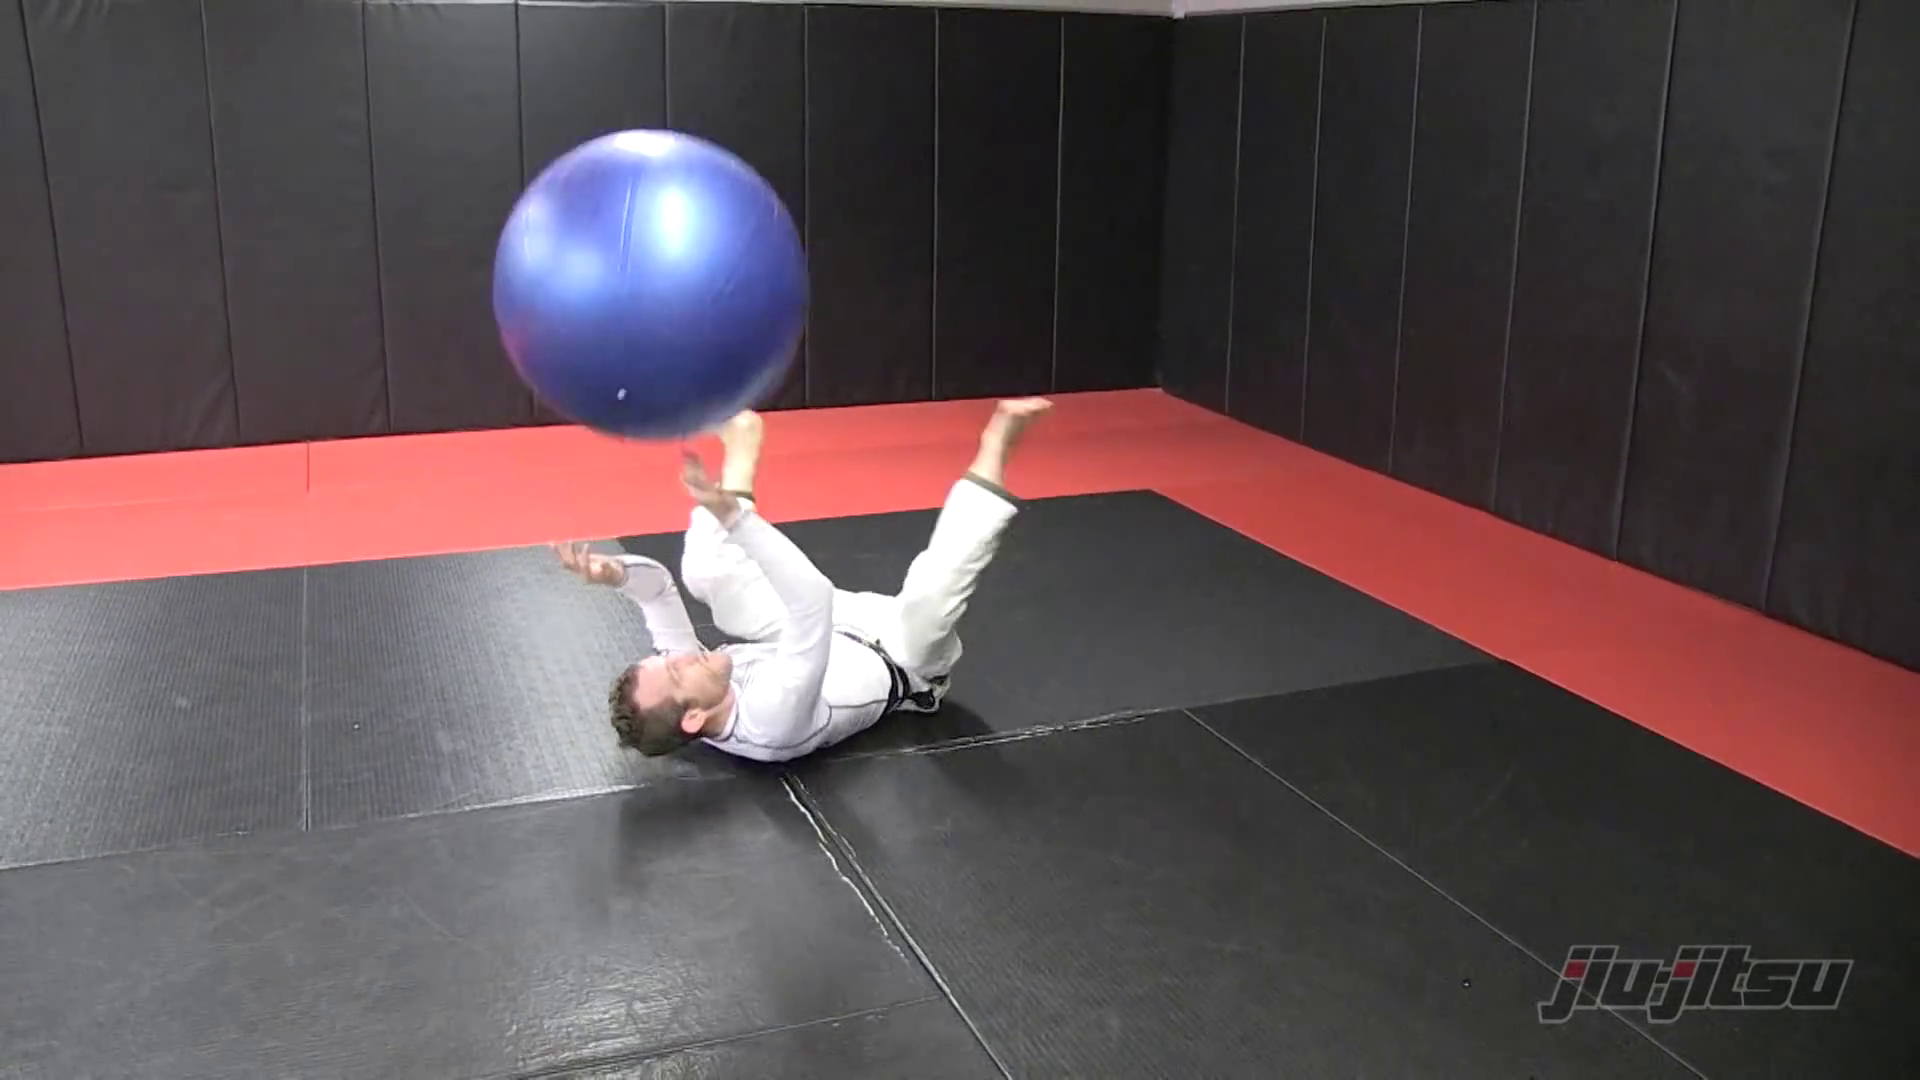yogaball: (473, 108, 822, 465)
